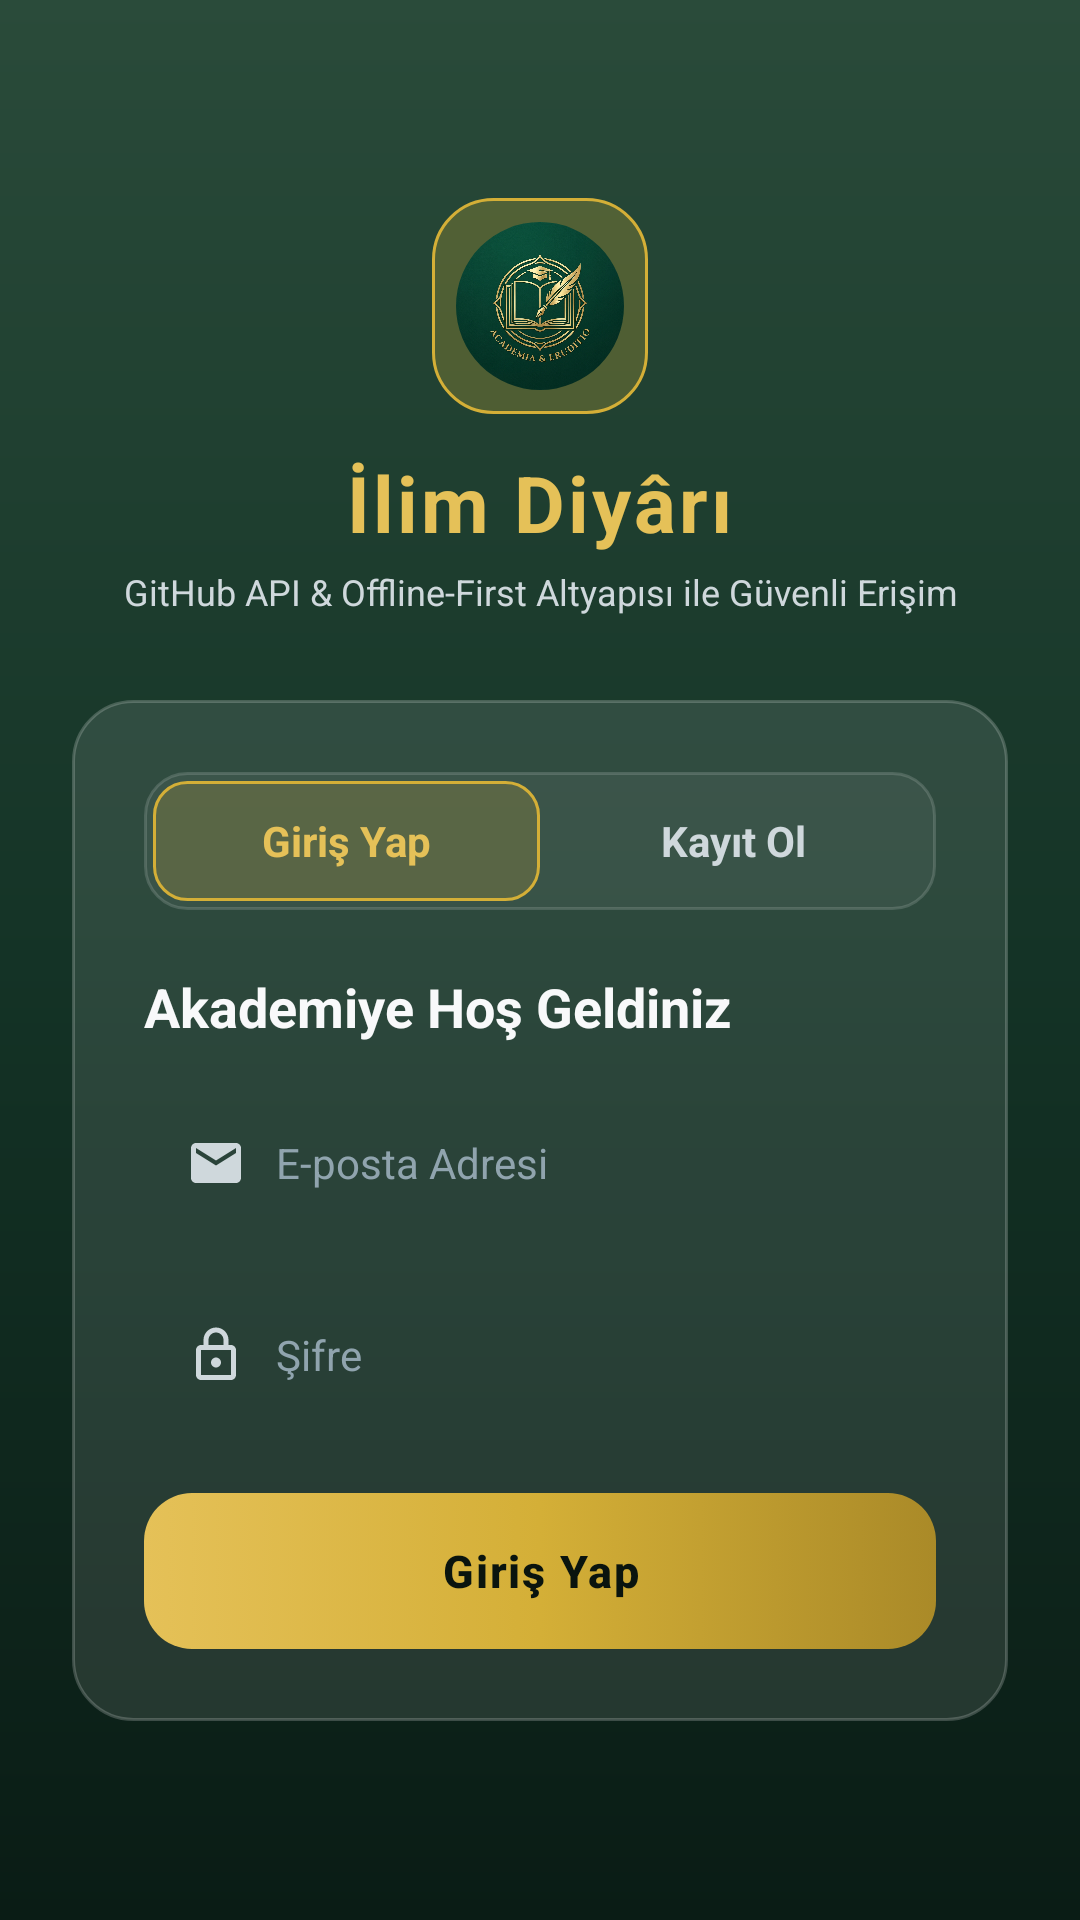

Icons on this 1080 × 1920 Android screen, each with its box as bbox=[x1, y1, x2, y2]:
lock: bbox=[196, 1327, 236, 1380]
mail: bbox=[191, 1143, 241, 1183]
